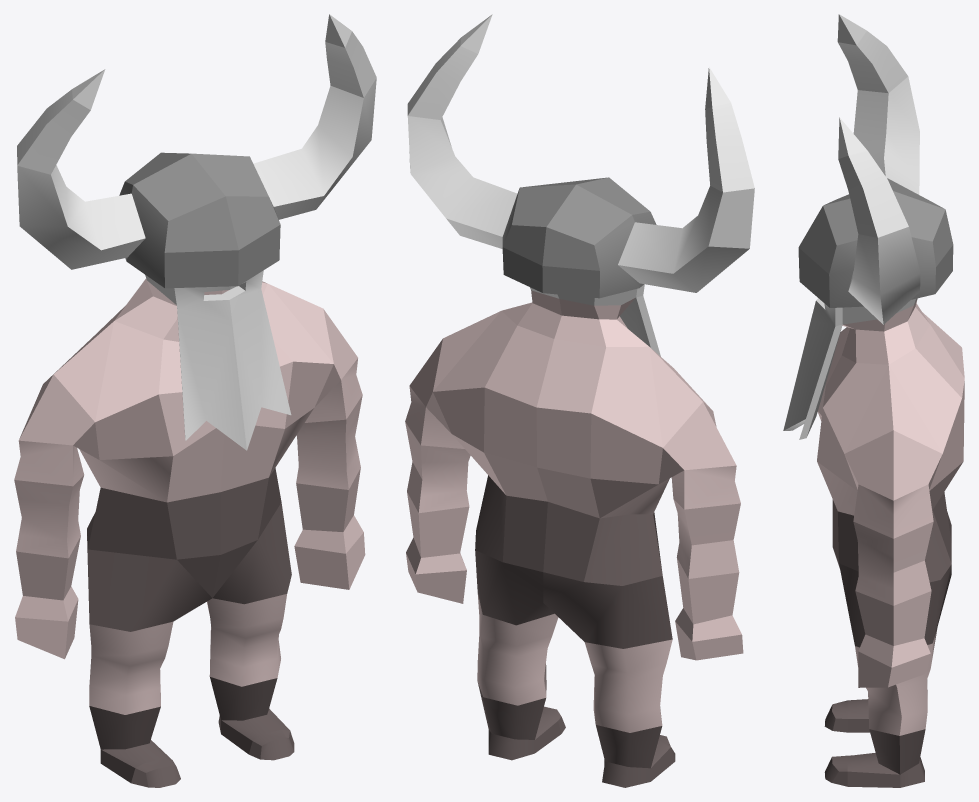
Rendered from pEnemy_HP.fbx.
The picture shows the model from 3 angles, left to right: view 1: azimuth 30°, elevation 25°; view 2: azimuth 150°, elevation 25°; view 3: azimuth 270°, elevation 25°; orthographic projection. The views are drawn at different scales.
Visible parts, largest first — view 1: pEnemy; view 2: pEnemy; view 3: pEnemy.
Part boxes in pixels (x1=…): pEnemy: x1=14, y1=14, x2=376, y2=787; pEnemy: x1=405, y1=14, x2=754, y2=787; pEnemy: x1=783, y1=14, x2=964, y2=787.
Size of the model in its own units: 33.16 by 63.84 by 15.37.
